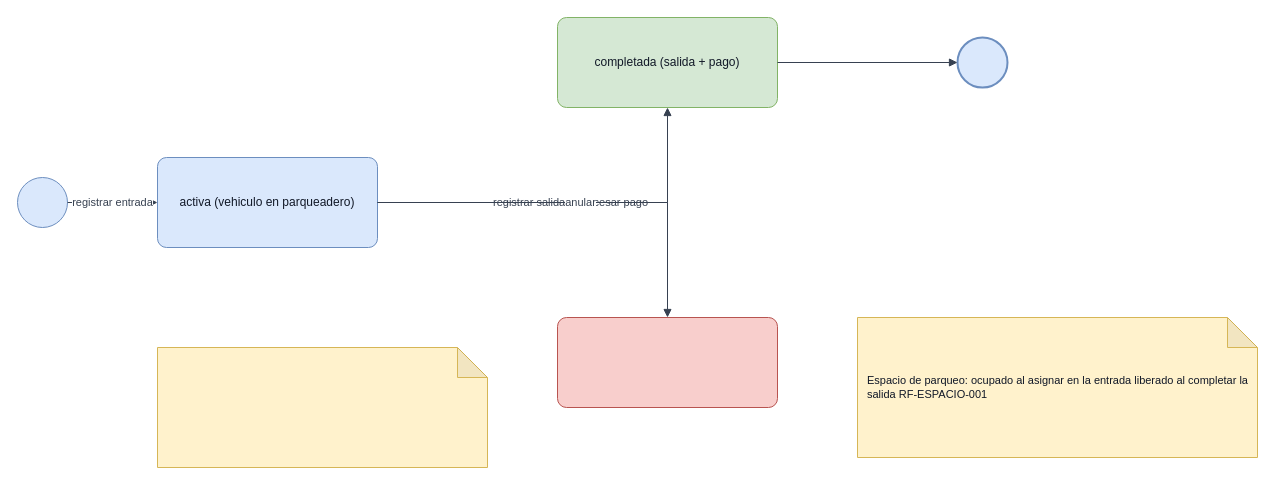
This 1275x485 diagram has some shape labels left out. The shapes that lost their labels are listed below. From the top down, each one's centre as x and y in pixels, then its label:
At [667,362]: "cancelada (anulacion)".
At [322,407]: "sync_status: pending -> synced (conflict si hay duplicado) RF-OFFLINE-001/002".
